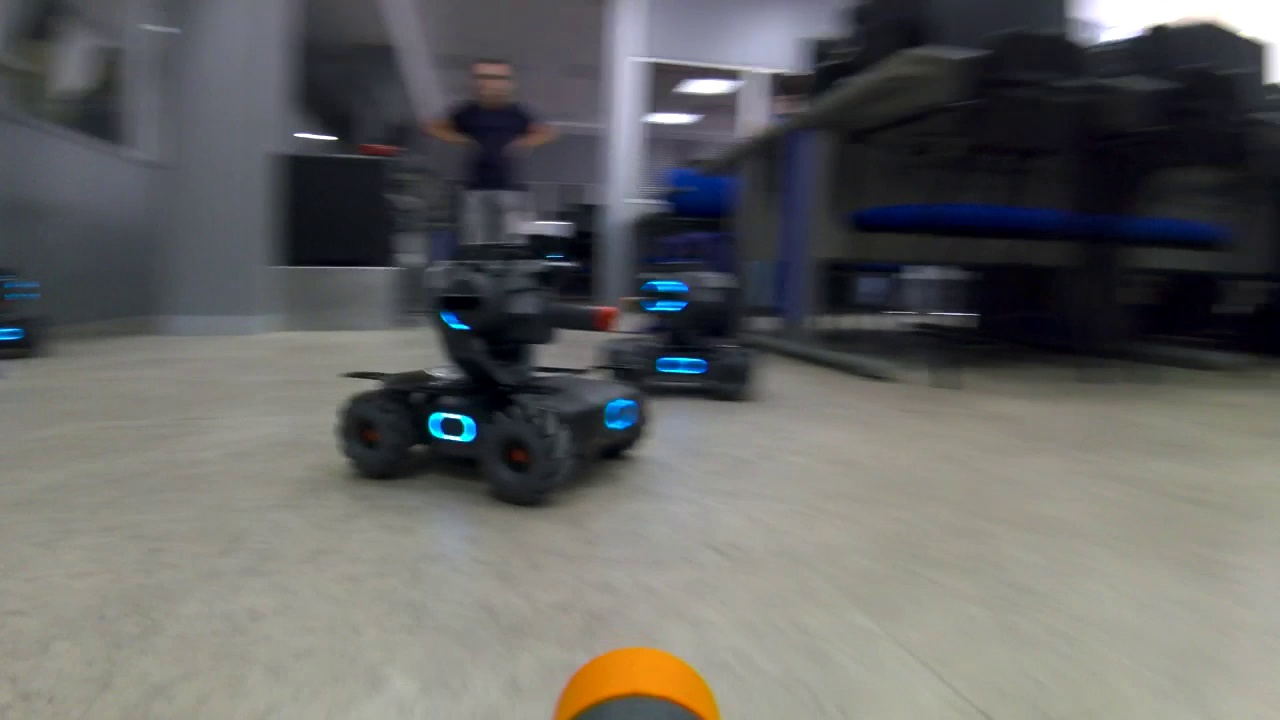robot: (321, 223, 652, 507)
